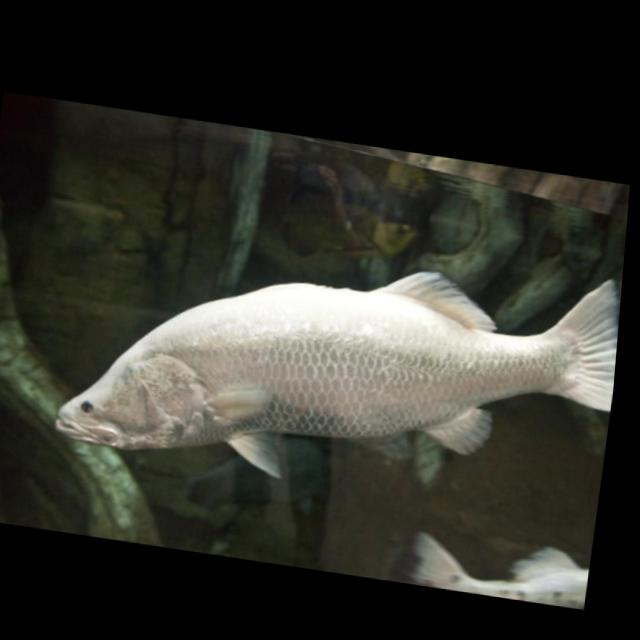Seabass: (45, 194, 625, 530)
